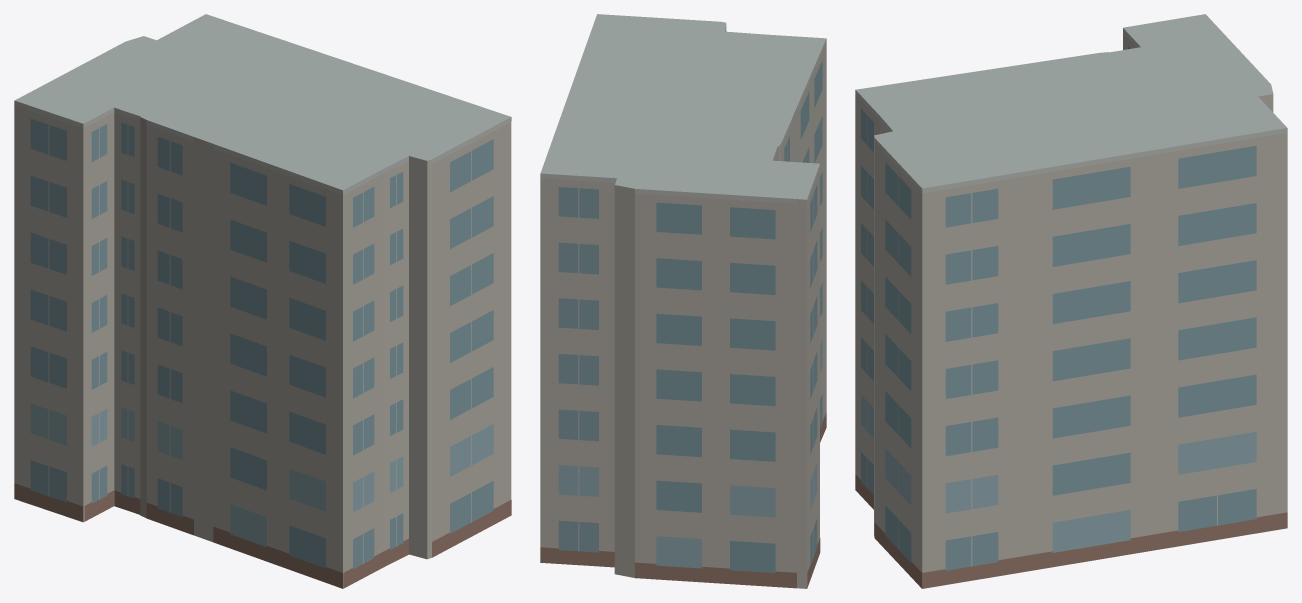
The model's file is survey-upis-32961718.glb.
The picture shows the model from 3 angles, left to right: view 1: azimuth 30°, elevation 25°; view 2: azimuth 150°, elevation 25°; view 3: azimuth 270°, elevation 25°; orthographic projection. The views are drawn at different scales.
Parts seen in each view (by area): view 1: survey-upis-32961718.tmp; view 2: survey-upis-32961718.tmp; view 3: survey-upis-32961718.tmp.
Part boxes in pixels (x1=…): survey-upis-32961718.tmp: x1=14, y1=14, x2=511, y2=588; survey-upis-32961718.tmp: x1=540, y1=14, x2=826, y2=588; survey-upis-32961718.tmp: x1=855, y1=14, x2=1287, y2=588.
Bounding box in the file's own units: 18.99 × 20.3 × 19.86.
